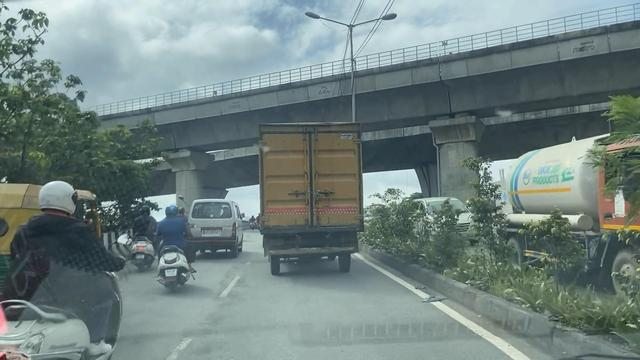HMV: (256, 124, 359, 279)
LMV: (151, 194, 194, 294)
